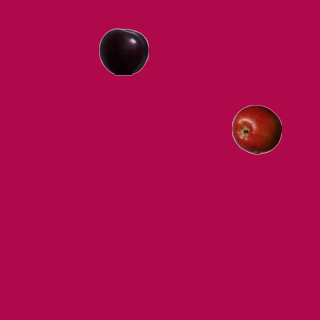Apple Braeburn: (231, 104, 281, 154)
Cherry Wax Black: (98, 26, 148, 76)
